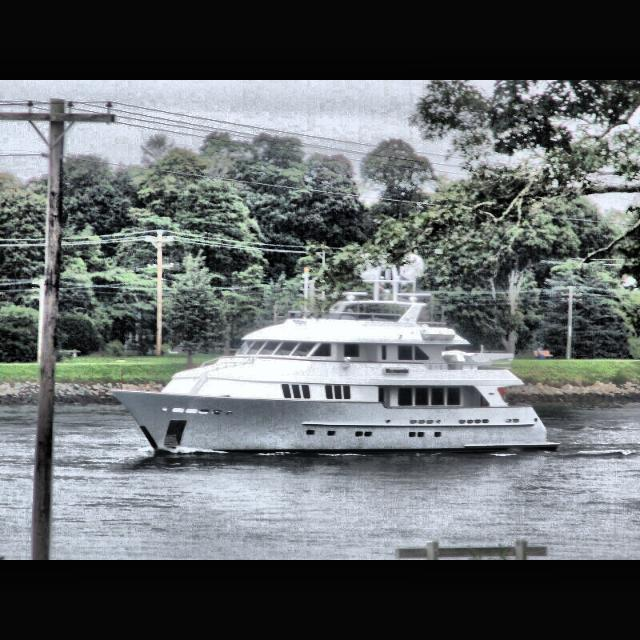yacht: (110, 250, 564, 458)
